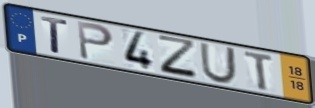4: (122, 29, 156, 73)
P: (75, 19, 116, 62)
T: (243, 49, 276, 92), (39, 14, 70, 56)
U: (198, 41, 239, 85)
Z: (156, 33, 201, 82)
